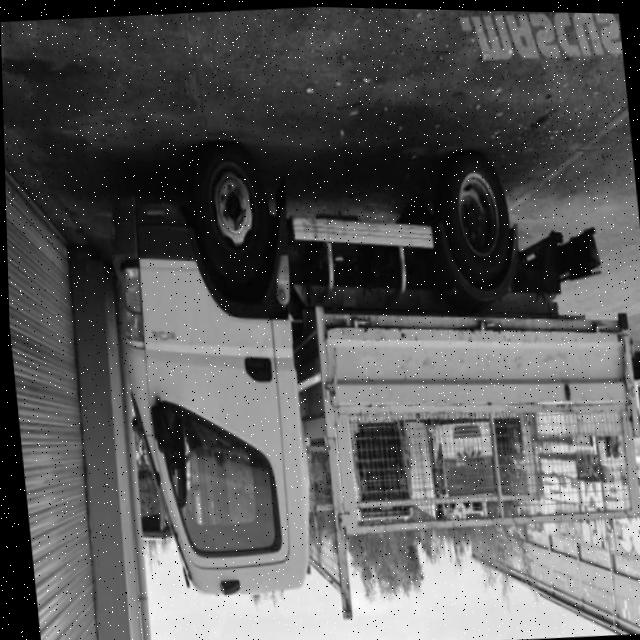truck: (82, 144, 358, 633)
